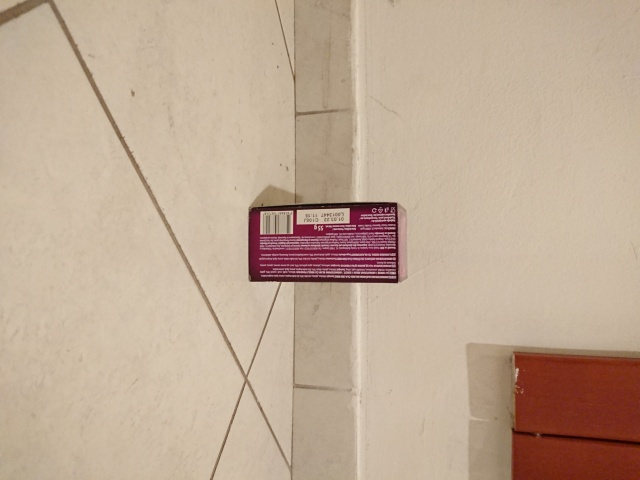Franck Black Currant Tea 60g: (244, 199, 412, 286)
